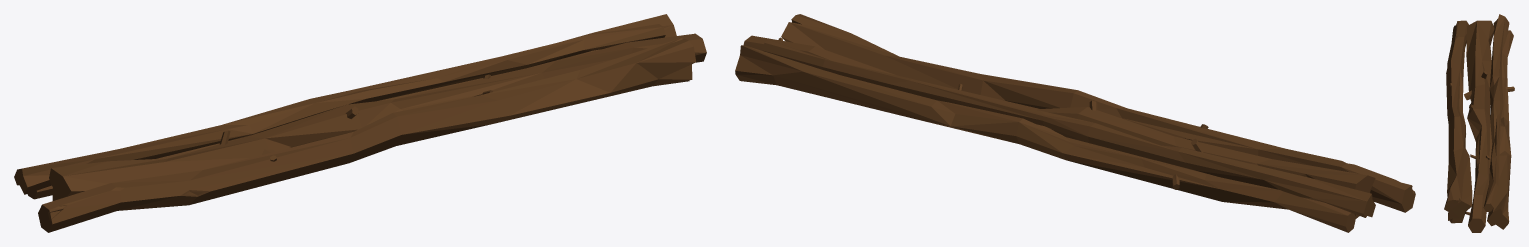
File: tree-pine-log-pile-a.gltf
3 views of the same model, side by side, from view 1: azimuth 30°, elevation 25°; view 2: azimuth 150°, elevation 25°; view 3: azimuth 270°, elevation 25° (orthographic). The views are drawn at different scales.
Parts seen in each view (by area): view 1: tree-pine-log-pile-a; view 2: tree-pine-log-pile-a; view 3: tree-pine-log-pile-a.
Part boxes in pixels (x1=…): tree-pine-log-pile-a: x1=14, y1=14, x2=706, y2=232; tree-pine-log-pile-a: x1=735, y1=14, x2=1415, y2=232; tree-pine-log-pile-a: x1=1444, y1=14, x2=1514, y2=232.
Bounding box in the file's own units: 0.0783 × 0.00499 × 0.0119.
